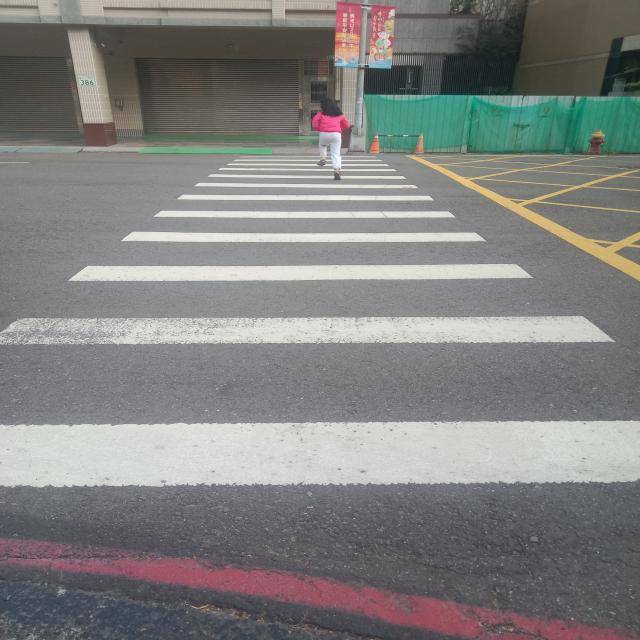person: (312, 110, 350, 170), (322, 99, 340, 112)
zebra crossing: (0, 158, 640, 497), (332, 106, 337, 111)
